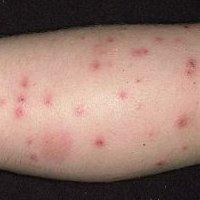Fleas: (27, 125, 42, 161), (171, 113, 192, 131), (181, 57, 198, 78), (15, 94, 26, 119), (16, 74, 33, 90), (114, 88, 128, 104), (74, 104, 91, 117), (153, 160, 168, 173), (88, 59, 101, 73), (131, 47, 149, 56), (43, 95, 53, 107), (134, 76, 146, 86), (96, 137, 105, 148), (154, 35, 162, 44), (179, 22, 189, 28), (180, 143, 189, 149), (184, 30, 190, 32)
